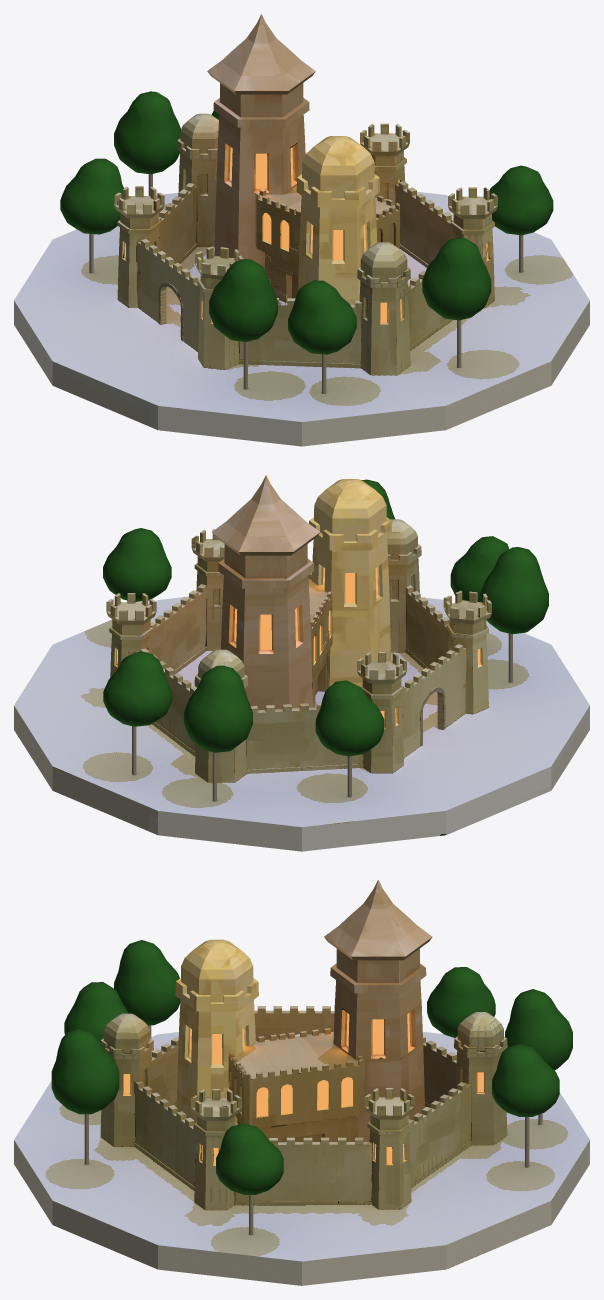
The model's file is castle_light.glb.
3 renders of one model, top to bottom at view 1: azimuth 30°, elevation 25°; view 2: azimuth 150°, elevation 25°; view 3: azimuth 270°, elevation 25°, orthographic.
Parts seen in each view (by area): view 1: tour3.003, chambre, cuisine; view 2: tour3.003, chambre, cuisine; view 3: tour3.003, chambre, cuisine.
Boxes of the visible parts, x1=… form: tour3.003: x1=14, y1=91, x2=589, y2=446; chambre: x1=207, y1=14, x2=315, y2=268; cuisine: x1=296, y1=136, x2=379, y2=304; tour3.003: x1=14, y1=479, x2=589, y2=851; chambre: x1=212, y1=475, x2=320, y2=710; cuisine: x1=309, y1=479, x2=391, y2=688; tour3.003: x1=14, y1=940, x2=589, y2=1285; chambre: x1=324, y1=880, x2=432, y2=1141; cuisine: x1=175, y1=939, x2=258, y2=1123.
Size of the model in its own units: 21.39 by 11.59 by 21.39.
Materials: 7 (3 with a texture image).
